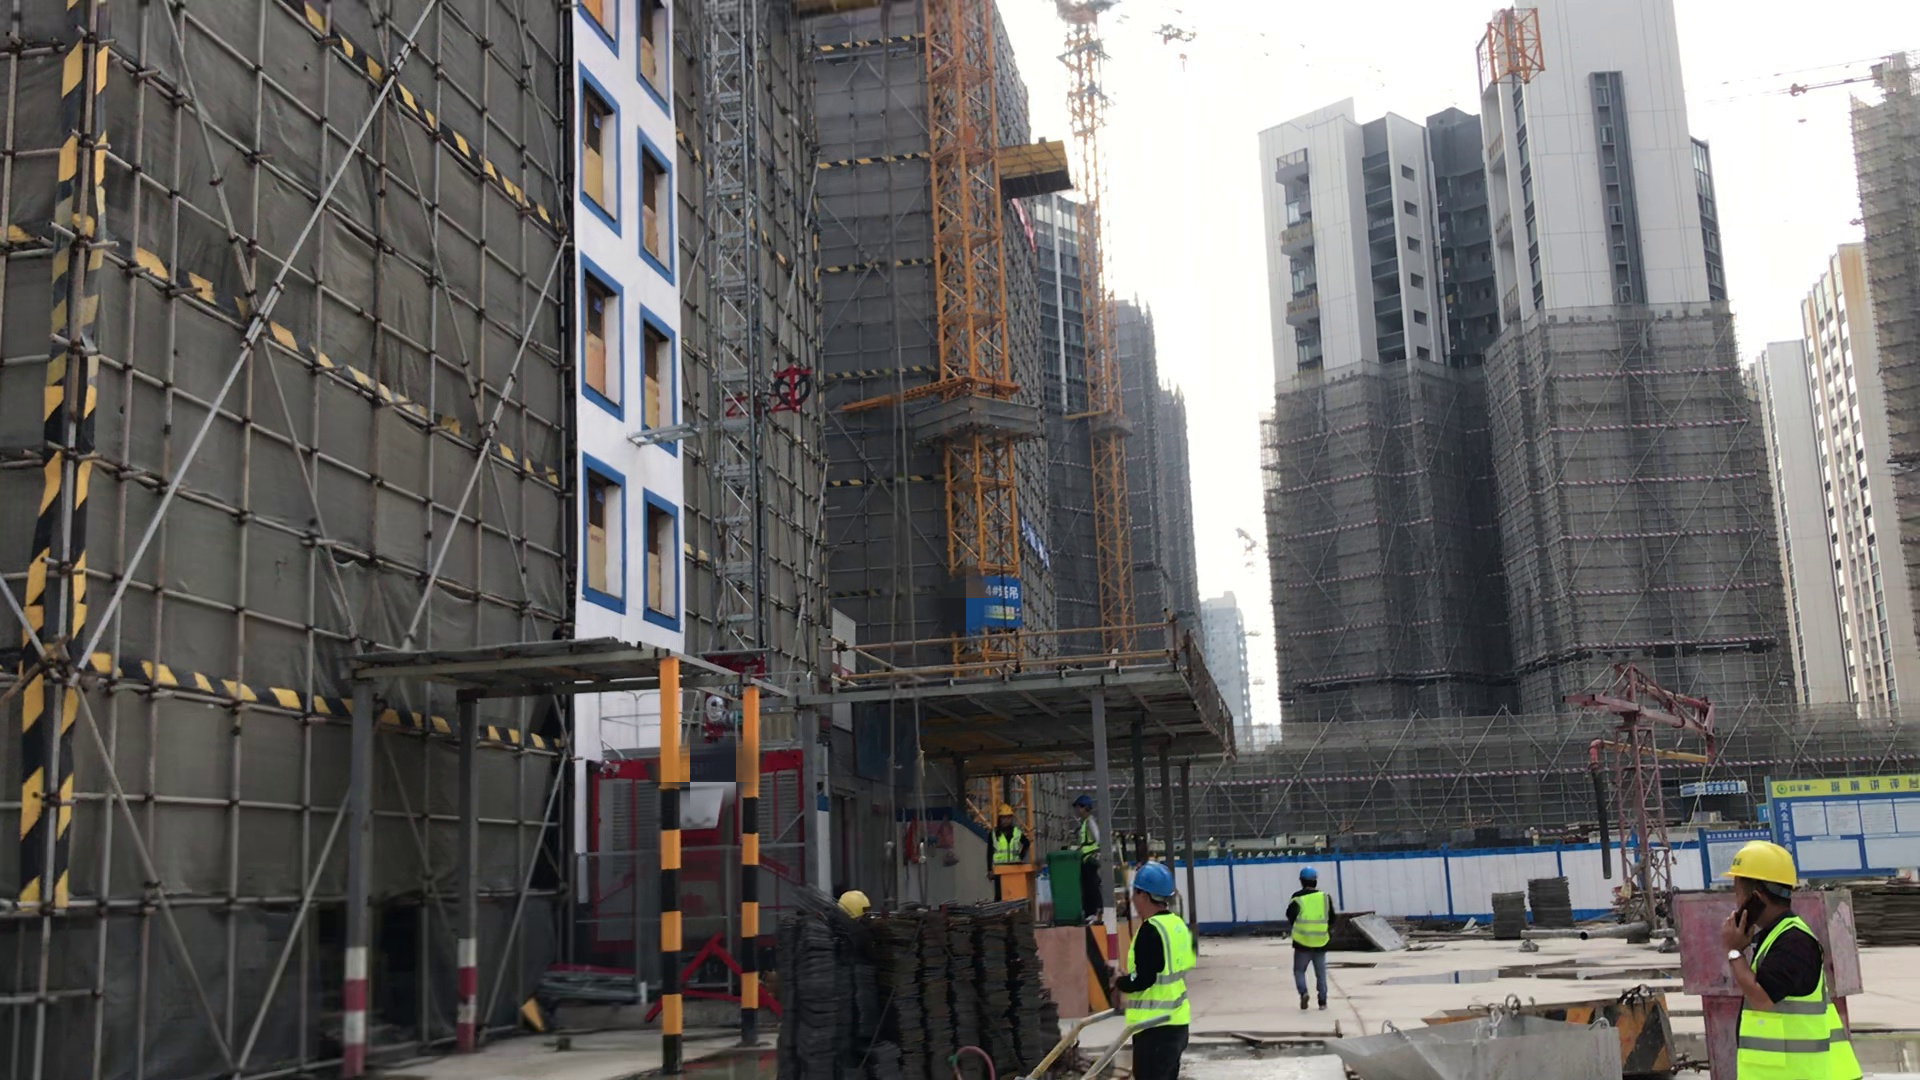helmet: (1710, 835, 1810, 891), (1129, 860, 1177, 899), (836, 888, 875, 922), (1298, 865, 1321, 881), (995, 801, 1016, 819), (1074, 792, 1091, 812)
person: (1716, 837, 1874, 1080), (1126, 867, 1196, 1080), (1281, 865, 1341, 1011), (1067, 791, 1105, 928), (985, 798, 1032, 867)
vest: (1732, 915, 1869, 1080), (1120, 911, 1195, 1034), (1291, 889, 1331, 954), (986, 827, 1032, 872), (1073, 813, 1100, 860)
